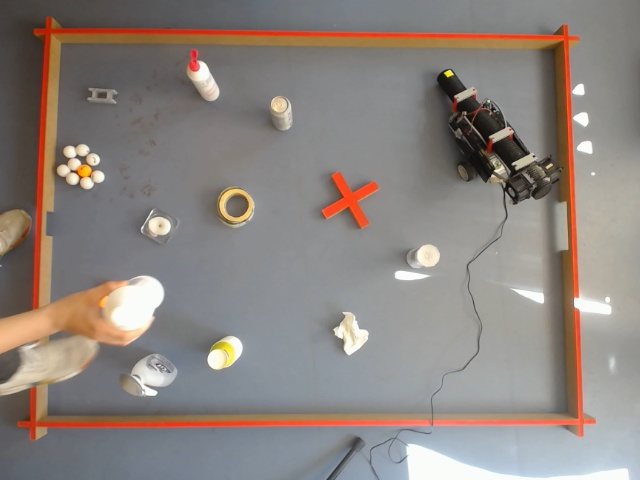robot: (435, 70, 564, 212)
white: (0, 209, 31, 258), (206, 336, 244, 371), (138, 213, 174, 245), (268, 95, 293, 131), (412, 244, 441, 269), (591, 469, 632, 480), (602, 467, 630, 480), (79, 174, 94, 191), (57, 164, 72, 181), (92, 167, 106, 185), (75, 143, 90, 158), (65, 171, 79, 187), (87, 151, 101, 167), (69, 154, 81, 172), (55, 163, 69, 178), (62, 144, 75, 159), (73, 144, 85, 159)
